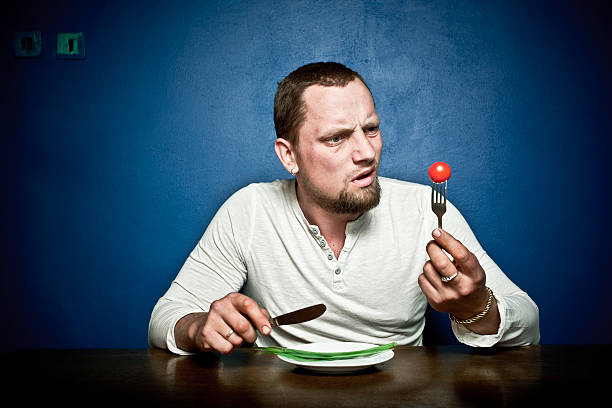knife: (269, 303, 327, 328)
